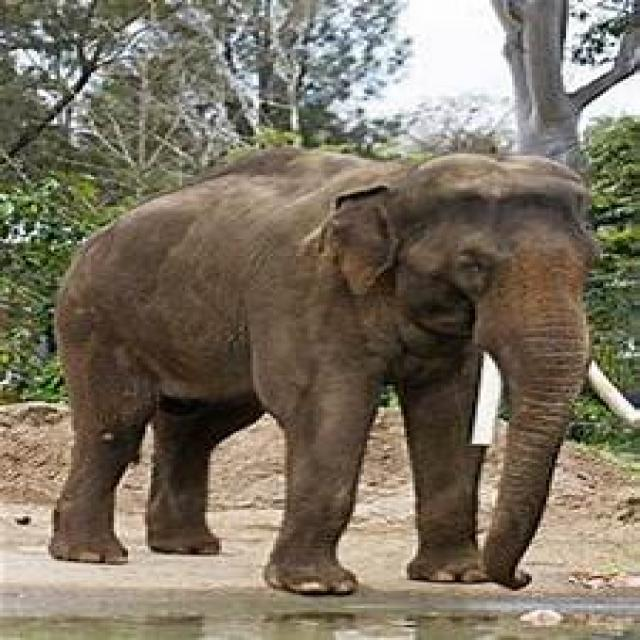elephant: (48, 149, 634, 599)
